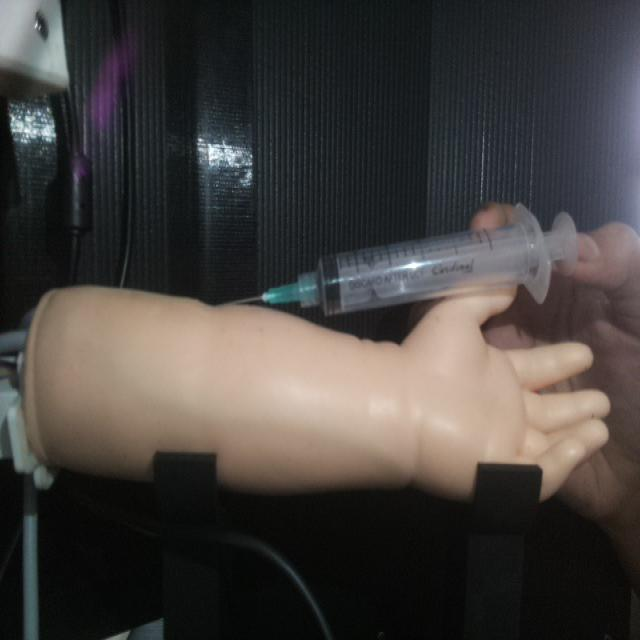Outside: (228, 198, 581, 318)
